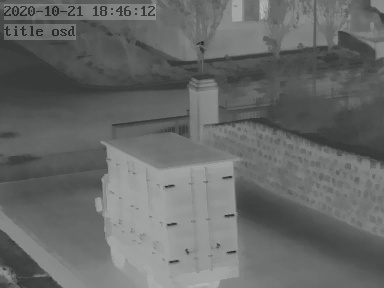vehicle: (95, 127, 249, 288)
